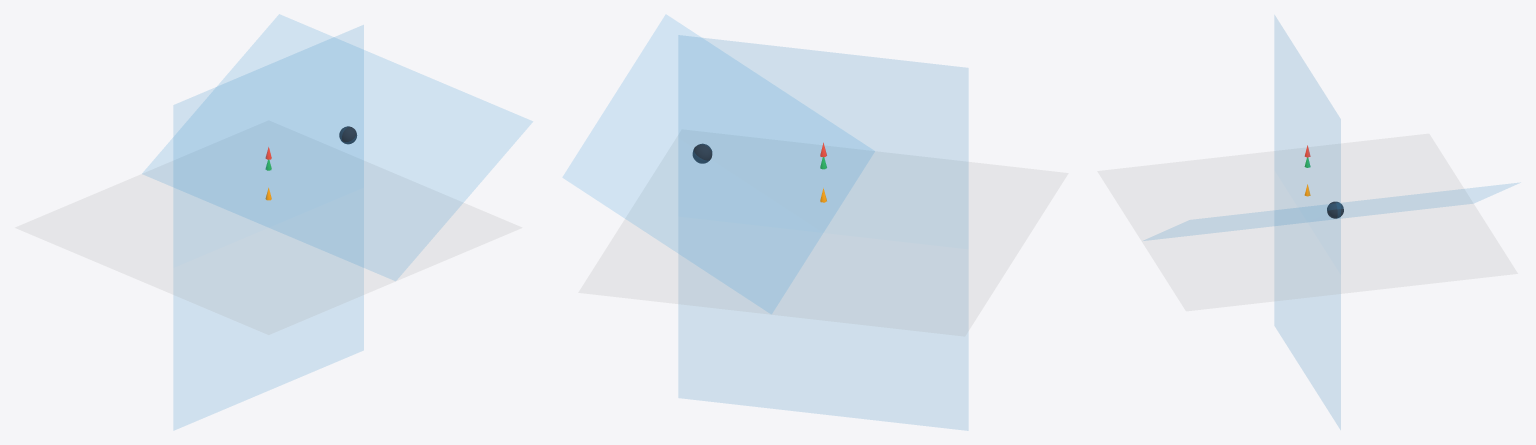
File: Giải bài tập 7.26 (lớp 11_hình học không gian).glb
3 renders of one model, left to right at view 1: azimuth 30°, elevation 25°; view 2: azimuth 150°, elevation 25°; view 3: azimuth 270°, elevation 25°, orthographic. The views are drawn at different scales.
Parts seen in each view (by area): view 1: Mesh_2.014, Mesh_3.031, Mesh_0.037; view 2: Mesh_2.014, Mesh_0.037, Mesh_3.031; view 3: Mesh_0.037, Mesh_2.014, Mesh_3.031.
Part boxes in pixels (x1,y1,x2,y2): Mesh_2.014: (174, 25, 363, 429); Mesh_3.031: (142, 14, 532, 280); Mesh_0.037: (16, 161, 521, 334); Mesh_2.014: (679, 35, 967, 430); Mesh_0.037: (579, 137, 1067, 335); Mesh_3.031: (563, 15, 874, 313); Mesh_0.037: (1098, 134, 1517, 310); Mesh_2.014: (1275, 16, 1340, 429); Mesh_3.031: (1144, 183, 1518, 240).
Bounding box in the file's own units: 10.12 × 8 × 9.88.
